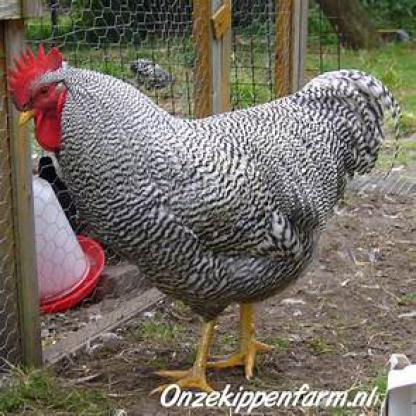chicken: (7, 42, 401, 396)
